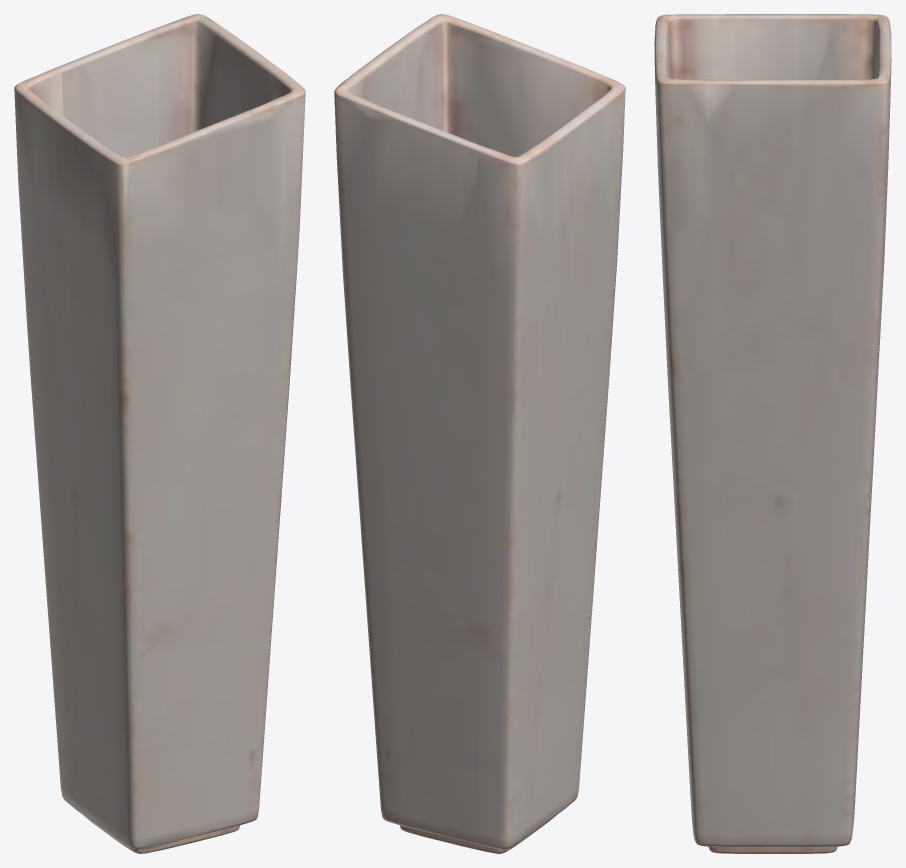
The model's file is ceramic_vase_03.glb.
3 renders of one model, left to right at view 1: azimuth 30°, elevation 25°; view 2: azimuth 150°, elevation 25°; view 3: azimuth 270°, elevation 25°, orthographic. The views are drawn at different scales.
Parts seen in each view (by area): view 1: ceramic_vase_03; view 2: ceramic_vase_03; view 3: ceramic_vase_03.
Part boxes in pixels (x1=…): ceramic_vase_03: x1=14, y1=14, x2=305, y2=853; ceramic_vase_03: x1=334, y1=14, x2=625, y2=853; ceramic_vase_03: x1=654, y1=14, x2=891, y2=853.
Bounding box in the file's own units: 0.1121 × 0.4143 × 0.1121.
Materials: 1 (1 with a texture image).
